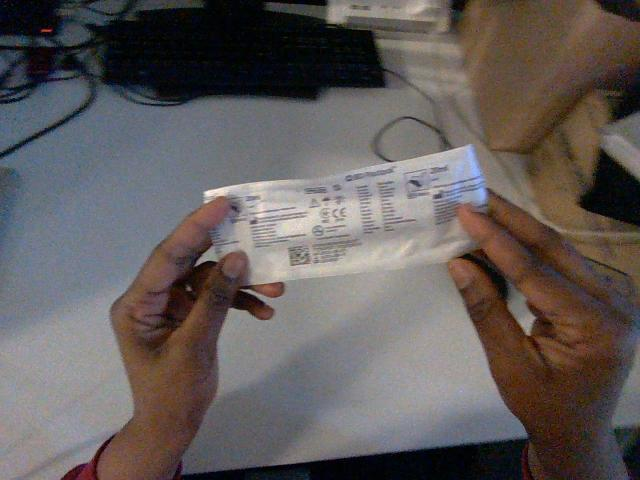syringe: (204, 145, 486, 283)
